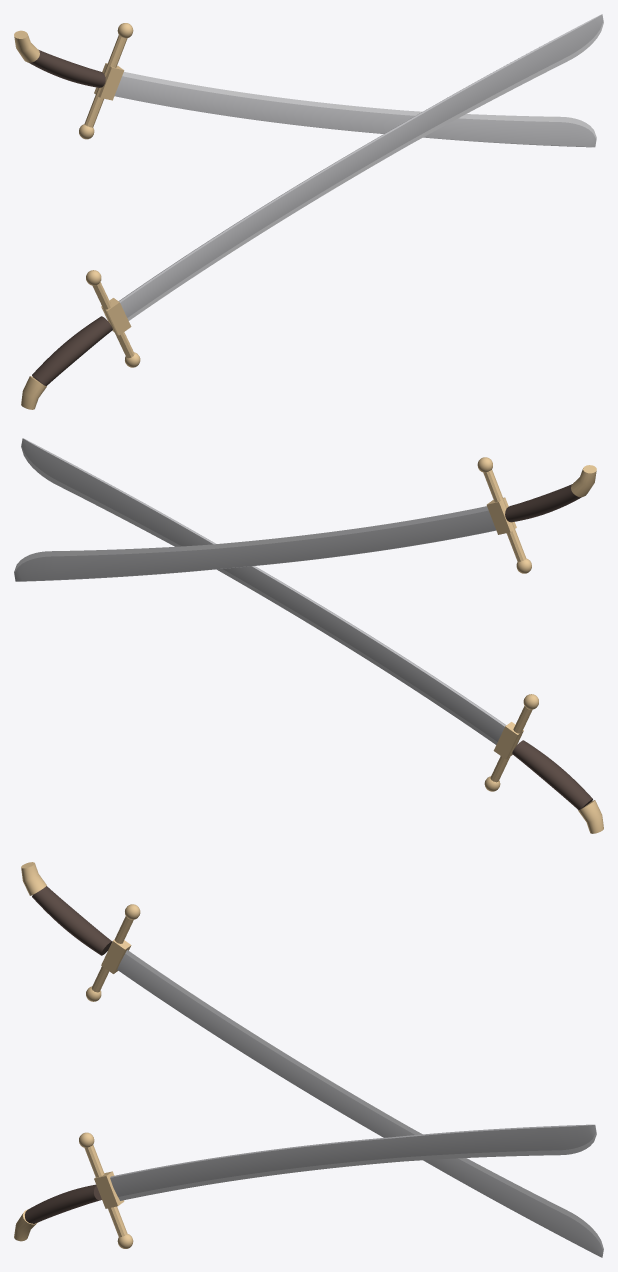
Rendered from espadas_duplas.glb.
3 renders of one model, top to bottom at view 1: azimuth 30°, elevation 25°; view 2: azimuth 150°, elevation 25°; view 3: azimuth 330°, elevation 25°, orthographic.
Visible parts, largest first — view 1: CimitarraB, CimitarraA; view 2: CimitarraA, CimitarraB; view 3: CimitarraB, CimitarraA.
Boxes of the visible parts, x1,y1,x2,y2 form: CimitarraB: (21,14,603,409); CimitarraA: (14,23,596,147); CimitarraA: (14,457,596,581); CimitarraB: (21,438,603,833); CimitarraB: (14,1124,596,1248); CimitarraA: (21,862,603,1257).
Bounding box in the file's own units: 0.8513 × 0.5169 × 0.049.
